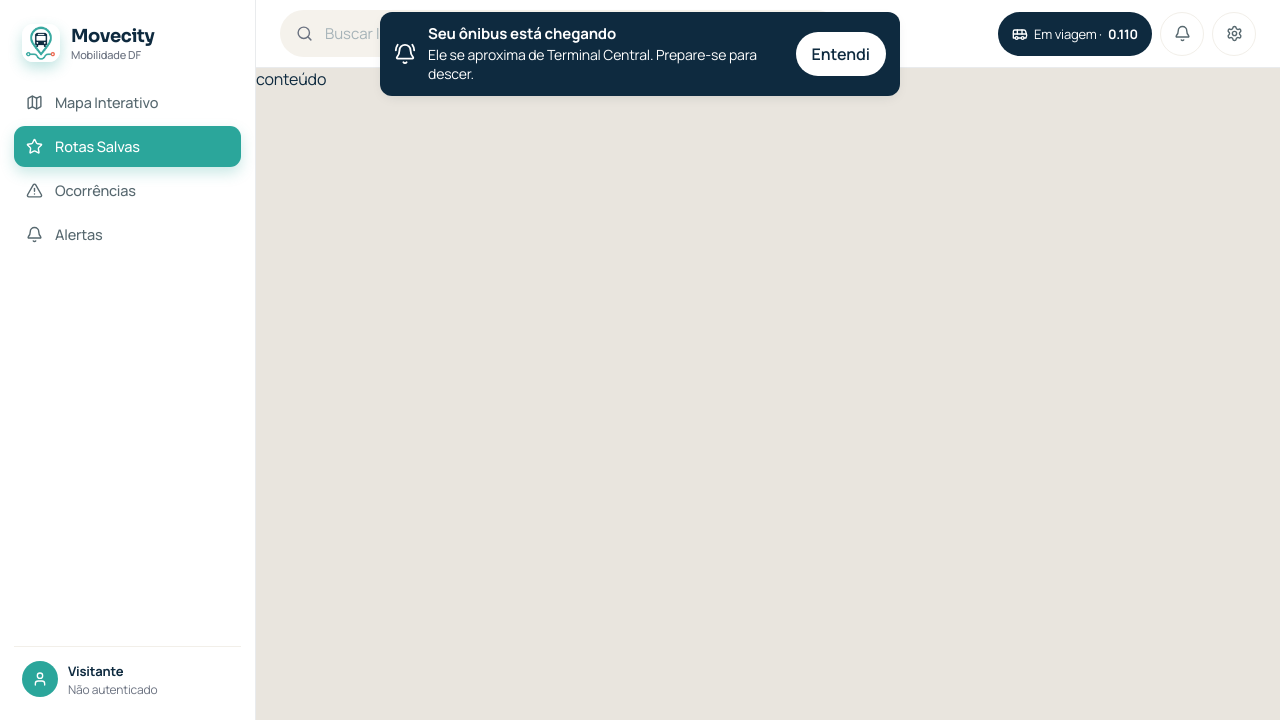
AppShell — aviso de proximidade (US #172) › 'Entendi' dispensa o aviso e confirma a viagem certa
This screenshot has width=1280, height=720.
Expected: the message is shown, [380,12,900,96]
Click the button "Entendi": click(841, 54) [796,32,886,76]
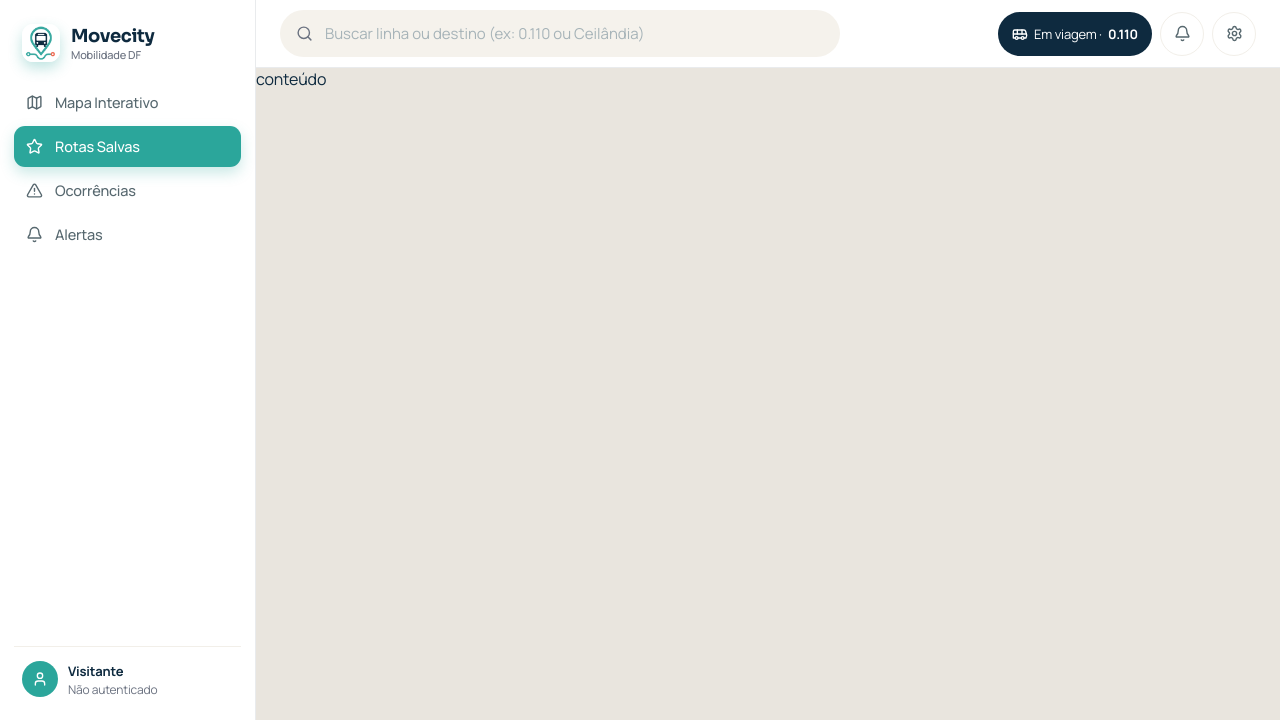
Expected: the message is gone
